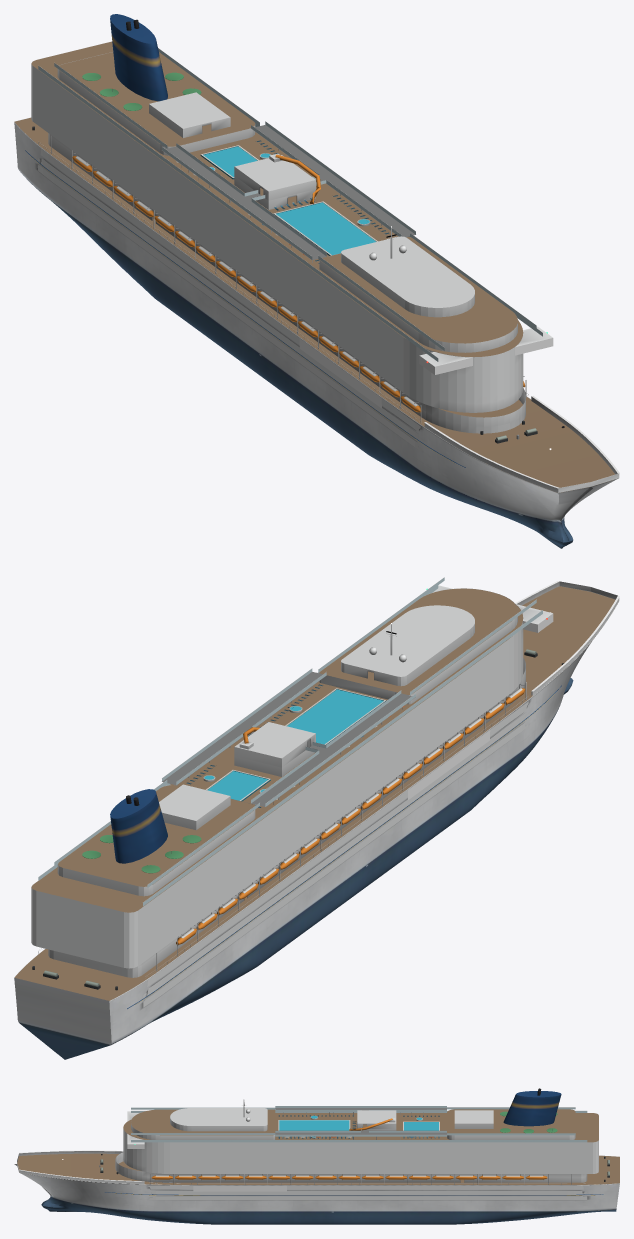
File: kreuz.glb
3 renders of one model, top to bottom at view 1: azimuth 30°, elevation 25°; view 2: azimuth 150°, elevation 25°; view 3: azimuth 270°, elevation 25°, orthographic. The views are drawn at different scales.
Visible parts, largest first — view 1: trim, aussen_teak, rumpf, rund, band, aussen_glas, poolwasser, name-1; view 2: trim, aussen_teak, rumpf, rund, band, aussen_glas, poolwasser, name-1; view 3: trim, rumpf, aussen_teak, rund, band, aussen_glas, poolwasser, name1.
Part boxes in pixels (bbox=[...]): trim: bbox=[31, 41, 619, 492]; aussen_teak: bbox=[14, 41, 614, 492]; rumpf: bbox=[14, 118, 618, 548]; rund: bbox=[14, 14, 564, 492]; band: bbox=[37, 148, 421, 451]; aussen_glas: bbox=[38, 48, 542, 361]; poolwasser: bbox=[203, 146, 375, 255]; name-1: bbox=[299, 338, 381, 408]; trim: bbox=[31, 581, 619, 989]; aussen_teak: bbox=[14, 586, 617, 1000]; rumpf: bbox=[14, 586, 611, 1059]; rund: bbox=[32, 577, 603, 1008]; band: bbox=[143, 701, 528, 1007]; aussen_glas: bbox=[38, 577, 542, 906]; poolwasser: bbox=[204, 689, 383, 800]; name-1: bbox=[408, 730, 490, 799]; trim: bbox=[17, 1108, 609, 1184]; rumpf: bbox=[14, 1155, 619, 1224]; aussen_teak: bbox=[17, 1109, 619, 1184]; rund: bbox=[21, 1088, 619, 1195]; band: bbox=[147, 1185, 587, 1199]; aussen_glas: bbox=[131, 1106, 587, 1142]; poolwasser: bbox=[279, 1115, 438, 1137]; name1: bbox=[193, 1186, 286, 1191].
Bounding box in the file's own units: 41 × 68.87 × 311.
Materials: 10 (1 with a texture image).
